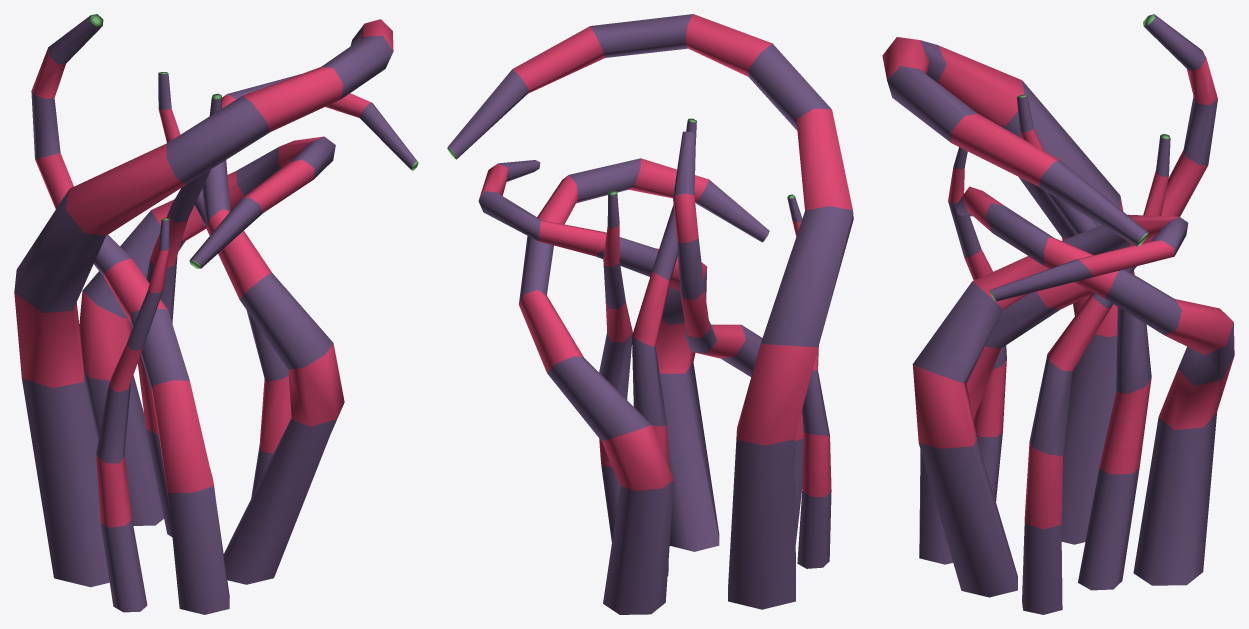
Rendered from Shrub_1.fbx.
3 views of the same model, side by side, from view 1: azimuth 30°, elevation 25°; view 2: azimuth 150°, elevation 25°; view 3: azimuth 270°, elevation 25° (orthographic). The views are drawn at different scales.
Parts seen in each view (by area): view 1: Shrub_1; view 2: Shrub_1; view 3: Shrub_1.
Boxes of the visible parts, x1=… form: Shrub_1: x1=14, y1=14, x2=418, y2=614; Shrub_1: x1=447, y1=14, x2=853, y2=614; Shrub_1: x1=882, y1=14, x2=1234, y2=614.
Size of the model in its own units: 209 by 278 by 164.
